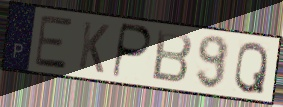9: (196, 33, 232, 93)
B: (149, 28, 194, 86)
E: (33, 14, 74, 71)
K: (77, 19, 112, 76)
P: (110, 21, 154, 80)
Q: (232, 40, 270, 96)
